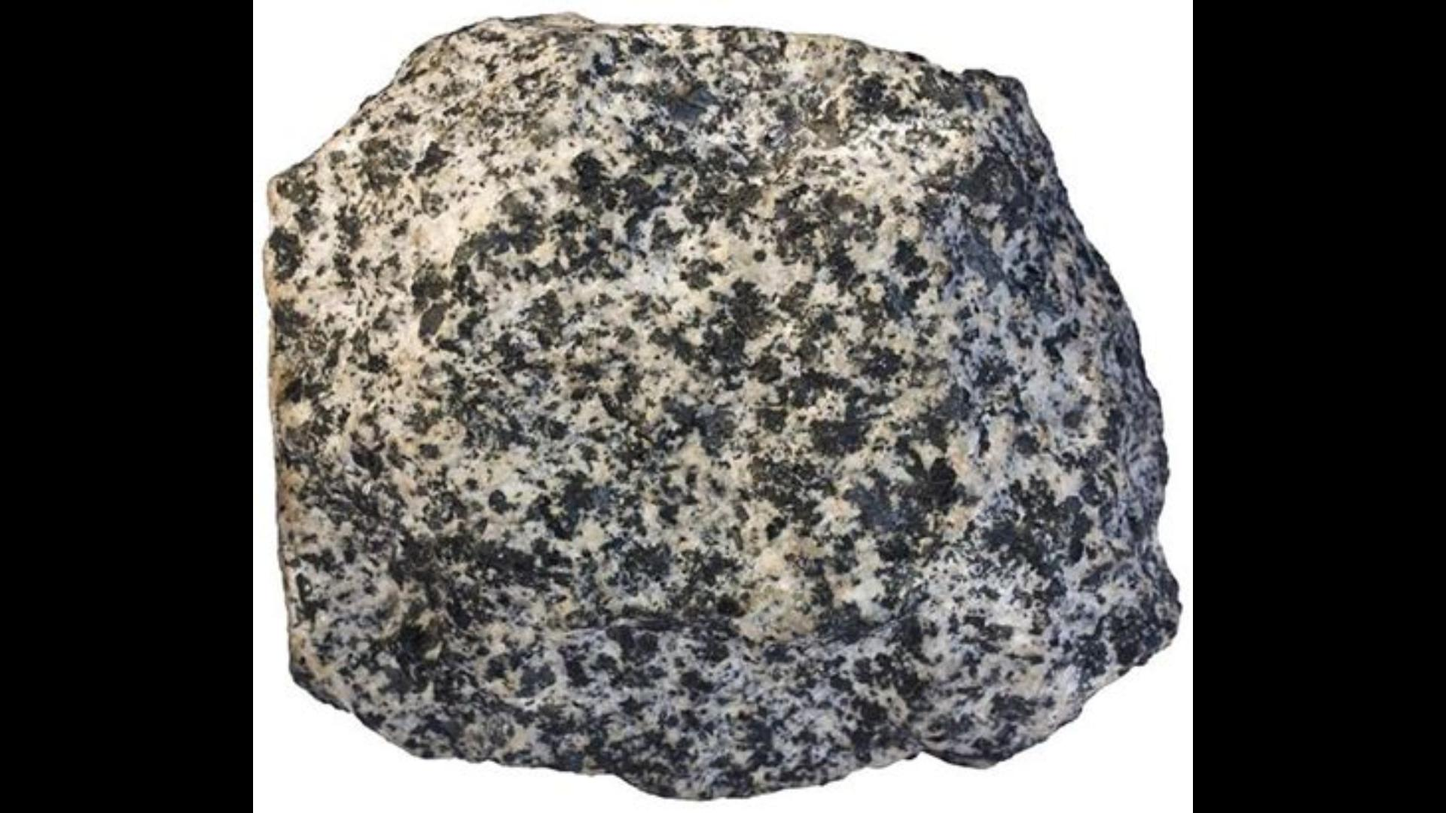rock: (271, 22, 1174, 797)
